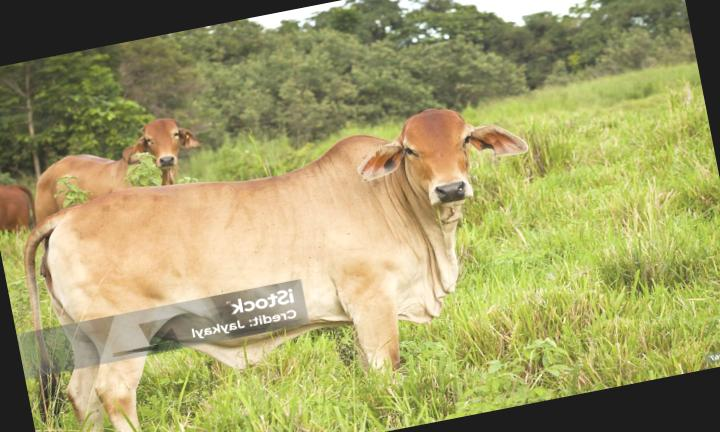Brahman: (25, 108, 527, 432)
